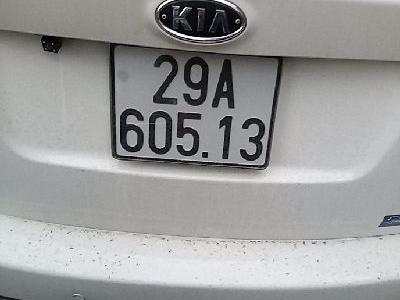car: (107, 40, 283, 173)
